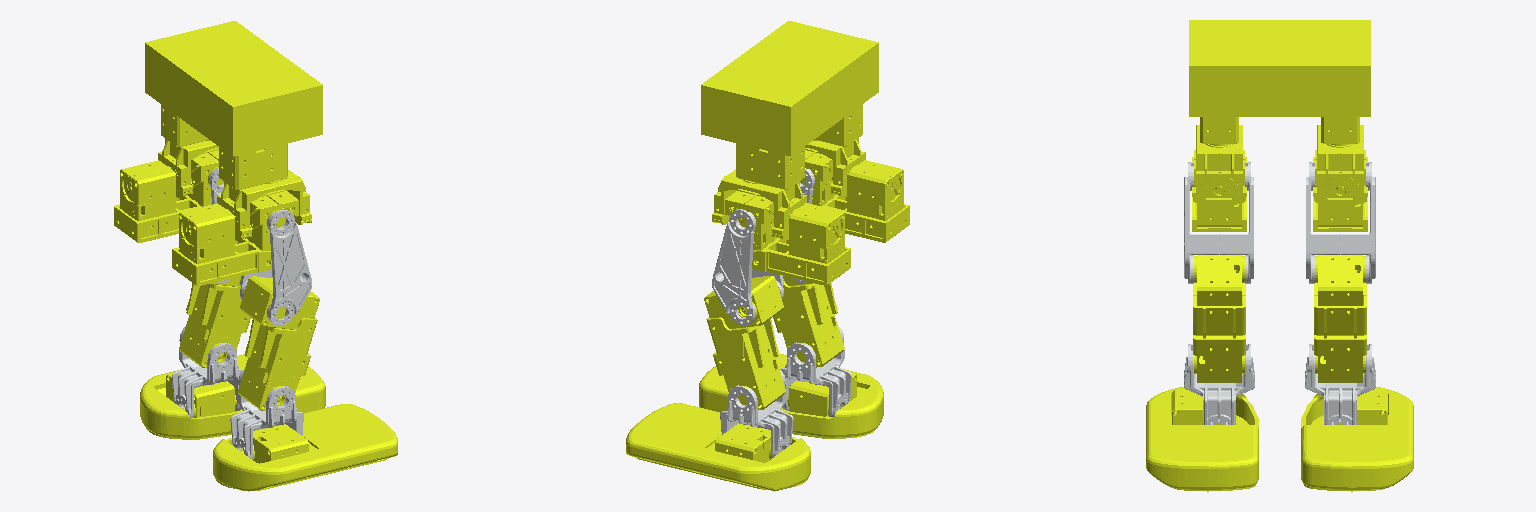
URDF robot description (exhx5_w_b_4):
<?xml version="1.0" encoding="utf-8"?>
<!-- This URDF was automatically created by SolidWorks to URDF Exporter! Originally created by [author] ([email redacted]) 
     Commit Version: 1.5.0-0-g9aa0fdb  Build Version: 1.5.7004.21443
     For more information, please see http://wiki.ros.org/sw_urdf_exporter -->
<robot
  name="exhx5_w_b_4">
  <link
    name="body_link">
    <inertial>
      <origin
        xyz="-0.0042379 -3.8815E-05 0.082564"
        rpy="0 0 0" />
      <mass
        value="2.0289" />
      <inertia
        ixx="0.003028"
        ixy="-1.1548E-13"
        ixz="1.3914E-06"
        iyy="0.0012834"
        iyz="6.0069E-16"
        izz="0.0037416" />
    </inertial>
    <visual>
      <origin
        xyz="0 0 0"
        rpy="0 0 0" />
      <geometry>
        <mesh
          filename="package://exhx5_w_b_4/meshes/body_link.STL" />
      </geometry>
      <material
        name="">
        <color
          rgba="0.9451 1 0.18431 1" />
      </material>
    </visual>
    <collision>
      <origin
        xyz="0 0 0"
        rpy="0 0 0" />
      <geometry>
        <mesh
          filename="package://exhx5_w_b_4/meshes/body_link.STL" />
      </geometry>
    </collision>
  </link>

  <link
    name="r_hip_yaw_link">
    <inertial>
      <origin
        xyz="-8.7512E-08 -0.0043916 -0.011937"
        rpy="0 0 0" />
      <mass
        value="0.060374" />
      <inertia
        ixx="2.2334E-05"
        ixy="7.1418E-11"
        ixz="-2.5162E-11"
        iyy="1.1654E-05"
        iyz="-9.1442E-09"
        izz="2.4883E-05" />
    </inertial>
    <visual>
      <origin
        xyz="0 0 0"
        rpy="0 0 0" />
      <geometry>
        <mesh
          filename="package://exhx5_w_b_4/meshes/r_hip_yaw_link.STL" />
      </geometry>
      <material
        name="">
        <color
          rgba="0.9451 1 0.18431 1" />
      </material>
    </visual>
    <collision>
      <origin
        xyz="0 0 0"
        rpy="0 0 0" />
      <geometry>
        <mesh
          filename="package://exhx5_w_b_4/meshes/r_hip_yaw_link.STL" />
      </geometry>
    </collision>
  </link>
  <joint
    name="r_hip_yaw"
    type="revolute">
    <origin
      xyz="0 -0.045 0"
      rpy="-3.1416 0 1.5708" />
    <parent
      link="body_link" />
    <child
      link="r_hip_yaw_link" />
    <axis
      xyz="0 0 1" />
    <limit
      lower="-3.14"
      upper="3.14"
      effort="0"
      velocity="0" />
    <safety_controller
      k_velocity="0" />
  </joint>
  <link
    name="r_hip_roll_link">
    <inertial>
      <origin
        xyz="0.013831 0.00033457 0.025453"
        rpy="0 0 0" />
      <mass
        value="0.2969" />
      <inertia
        ixx="7.8136E-05"
        ixy="7.265E-07"
        ixz="-6.9809E-08"
        iyy="9.2183E-05"
        iyz="-5.6564E-11"
        izz="7.1034E-05" />
    </inertial>
    <visual>
      <origin
        xyz="0 0 0"
        rpy="0 0 0" />
      <geometry>
        <mesh
          filename="package://exhx5_w_b_4/meshes/r_hip_roll_link.STL" />
      </geometry>
      <material
        name="">
        <color
          rgba="0.9451 1 0.18431 1" />
      </material>
    </visual>
    <collision>
      <origin
        xyz="0 0 0"
        rpy="0 0 0" />
      <geometry>
        <mesh
          filename="package://exhx5_w_b_4/meshes/r_hip_roll_link.STL" />
      </geometry>
    </collision>
  </link>
  <joint
    name="r_hip_roll"
    type="revolute">
    <origin
      xyz="0 0 0"
      rpy="1.5708 -1.5708 0" />
    <parent
      link="r_hip_yaw_link" />
    <child
      link="r_hip_roll_link" />
    <axis
      xyz="0 0 1" />
    <limit
      lower="-3.14"
      upper="3.14"
      effort="0"
      velocity="0" />
    <safety_controller
      k_velocity="0" />
  </joint>
  <link
    name="r_hip_pitch_link">
    <inertial>
      <origin
        xyz="0.041225 0.007321 4.861E-08"
        rpy="0 0 0" />
      <mass
        value="0.051592" />
      <inertia
        ixx="2.7959E-05"
        ixy="-2.0752E-06"
        ixz="7.3863E-11"
        iyy="4.8156E-05"
        iyz="3.1562E-11"
        izz="2.9604E-05" />
    </inertial>
    <visual>
      <origin
        xyz="0 0 0"
        rpy="0 0 0" />
      <geometry>
        <mesh
          filename="package://exhx5_w_b_4/meshes/r_hip_pitch_link.STL" />
      </geometry>
      <material
        name="">
        <color
          rgba="0.89804 0.91765 0.92941 1" />
      </material>
    </visual>
    <collision>
      <origin
        xyz="0 0 0"
        rpy="0 0 0" />
      <geometry>
        <mesh
          filename="package://exhx5_w_b_4/meshes/r_hip_pitch_link.STL" />
      </geometry>
    </collision>
  </link>
  <joint
    name="r_hip_pitch"
    type="revolute">
    <origin
      xyz="0 0 0"
      rpy="-1.5708 0 0" />
    <parent
      link="r_hip_roll_link" />
    <child
      link="r_hip_pitch_link" />
    <axis
      xyz="0 0 1" />
    <limit
      lower="-3.14"
      upper="3.14"
      effort="0"
      velocity="0" />
    <safety_controller
      k_velocity="0" />
  </joint>
  <link
    name="r_knee_link">
    <inertial>
      <origin
        xyz="0.033756 0.0084189 7.0869E-09"
        rpy="0 0 0" />
      <mass
        value="0.28878" />
      <inertia
        ixx="6.6724E-05"
        ixy="-7.5004E-07"
        ixz="8.4578E-07"
        iyy="6.5699E-05"
        iyz="4.1085E-07"
        izz="7.0381E-05" />
    </inertial>
    <visual>
      <origin
        xyz="0 0 0"
        rpy="0 0 0" />
      <geometry>
        <mesh
          filename="package://exhx5_w_b_4/meshes/r_knee_link.STL" />
      </geometry>
      <material
        name="">
        <color
          rgba="0.9451 1 0.18431 1" />
      </material>
    </visual>
    <collision>
      <origin
        xyz="0 0 0"
        rpy="0 0 0" />
      <geometry>
        <mesh
          filename="package://exhx5_w_b_4/meshes/r_knee_link.STL" />
      </geometry>
    </collision>
  </link>
  <joint
    name="r_knee"
    type="revolute">
    <origin
      xyz="0.075954 0 0"
      rpy="0 0 0" />
    <parent
      link="r_hip_pitch_link" />
    <child
      link="r_knee_link" />
    <axis
      xyz="0 0 1" />
    <limit
      lower="-3.14"
      upper="3.14"
      effort="0"
      velocity="0" />
    <safety_controller
      k_velocity="0" />
  </joint>
  <link
    name="r_ank_pitch_link">
    <inertial>
      <origin
        xyz="0.022786 -8.5366E-09 -7.1994E-06"
        rpy="0 0 0" />
      <mass
        value="0.044772" />
      <inertia
        ixx="1.777E-05"
        ixy="-5.6509E-13"
        ixz="-3.3702E-09"
        iyy="1.7119E-05"
        iyz="1.8799E-11"
        izz="1.8661E-05" />
    </inertial>
    <visual>
      <origin
        xyz="0 0 0"
        rpy="0 0 0" />
      <geometry>
        <mesh
          filename="package://exhx5_w_b_4/meshes/r_ank_pitch_link.STL" />
      </geometry>
      <material
        name="">
        <color
          rgba="0.89804 0.91765 0.92941 1" />
      </material>
    </visual>
    <collision>
      <origin
        xyz="0 0 0"
        rpy="0 0 0" />
      <geometry>
        <mesh
          filename="package://exhx5_w_b_4/meshes/r_ank_pitch_link.STL" />
      </geometry>
    </collision>
  </link>
  <joint
    name="r_ank_pitch"
    type="revolute">
    <origin
      xyz="0.074602 0 0"
      rpy="3.1416 0 0" />
    <parent
      link="r_knee_link" />
    <child
      link="r_ank_pitch_link" />
    <axis
      xyz="0 0 1" />
    <limit
      lower="-3.14"
      upper="3.14"
      effort="0"
      velocity="0" />
    <safety_controller
      k_velocity="0" />
  </joint>
  <link
    name="r_ank_roll_link">
    <inertial>
      <origin
        xyz="0.0028428 -0.011717 0.011396"
        rpy="0 0 0" />
      <mass
        value="0.18479" />
      <inertia
        ixx="0.00019443"
        ixy="-2.4883E-06"
        ixz="1.1391E-06"
        iyy="0.0001398"
        iyz="-4.5796E-06"
        izz="7.2546E-05" />
    </inertial>
    <visual>
      <origin
        xyz="0 0 0"
        rpy="0 0 0" />
      <geometry>
        <mesh
          filename="package://exhx5_w_b_4/meshes/r_ank_roll_link.STL" />
      </geometry>
      <material
        name="">
        <color
          rgba="0.9451 1 0.18431 1" />
      </material>
    </visual>
    <collision>
      <origin
        xyz="0 0 0"
        rpy="0 0 0" />
      <geometry>
        <mesh
          filename="package://exhx5_w_b_4/meshes/r_ank_roll_link.STL" />
      </geometry>
    </collision>
  </link>
  <joint
    name="r_ank_roll"
    type="revolute">
    <origin
      xyz="0.0465 0 0"
      rpy="1.5708 0 0" />
    <parent
      link="r_ank_pitch_link" />
    <child
      link="r_ank_roll_link" />
    <axis
      xyz="0 0 1" />
    <limit
      lower="-3.14"
      upper="3.14"
      effort="0"
      velocity="0" />
    <safety_controller
      k_velocity="0" />
  </joint>
  <link
    name="l_hip_yaw_link">
    <inertial>
      <origin
        xyz="-8.7512E-08 -0.0043916 -0.011937"
        rpy="0 0 0" />
      <mass
        value="0.060374" />
      <inertia
        ixx="2.2334E-05"
        ixy="7.1418E-11"
        ixz="-2.5162E-11"
        iyy="1.1654E-05"
        iyz="-9.1442E-09"
        izz="2.4883E-05" />
    </inertial>
    <visual>
      <origin
        xyz="0 0 0"
        rpy="0 0 0" />
      <geometry>
        <mesh
          filename="package://exhx5_w_b_4/meshes/l_hip_yaw_link.STL" />
      </geometry>
      <material
        name="">
        <color
          rgba="0.9451 1 0.18431 1" />
      </material>
    </visual>
    <collision>
      <origin
        xyz="0 0 0"
        rpy="0 0 0" />
      <geometry>
        <mesh
          filename="package://exhx5_w_b_4/meshes/l_hip_yaw_link.STL" />
      </geometry>
    </collision>
  </link>
  <joint
    name="l_hip_yaw"
    type="revolute">
    <origin
      xyz="0 0.045 0"
      rpy="3.1416 0 1.5708" />
    <parent
      link="body_link" />
    <child
      link="l_hip_yaw_link" />
    <axis
      xyz="0 0 1" />
    <limit
      lower="-3.14"
      upper="3.14"
      effort="0"
      velocity="0" />
    <safety_controller
      k_velocity="0" />
  </joint>
  <link
    name="l_hip_roll_link">
    <inertial>
      <origin
        xyz="0.013831 0.00033457 0.025453"
        rpy="0 0 0" />
      <mass
        value="0.2969" />
      <inertia
        ixx="7.8136E-05"
        ixy="7.265E-07"
        ixz="-6.9809E-08"
        iyy="9.2183E-05"
        iyz="-5.6564E-11"
        izz="7.1034E-05" />
    </inertial>
    <visual>
      <origin
        xyz="0 0 0"
        rpy="0 0 0" />
      <geometry>
        <mesh
          filename="package://exhx5_w_b_4/meshes/l_hip_roll_link.STL" />
      </geometry>
      <material
        name="">
        <color
          rgba="0.9451 1 0.18431 1" />
      </material>
    </visual>
    <collision>
      <origin
        xyz="0 0 0"
        rpy="0 0 0" />
      <geometry>
        <mesh
          filename="package://exhx5_w_b_4/meshes/l_hip_roll_link.STL" />
      </geometry>
    </collision>
  </link>
  <joint
    name="l_hip_roll"
    type="revolute">
    <origin
      xyz="0 0 0"
      rpy="1.5708 -1.5708 0" />
    <parent
      link="l_hip_yaw_link" />
    <child
      link="l_hip_roll_link" />
    <axis
      xyz="0 0 1" />
    <limit
      lower="-3.14"
      upper="3.14"
      effort="0"
      velocity="0" />
    <safety_controller
      k_velocity="0" />
  </joint>
  <link
    name="l_hip_pitch_link">
    <inertial>
      <origin
        xyz="0.041225 -0.007321 -4.861E-08"
        rpy="0 0 0" />
      <mass
        value="0.051592" />
      <inertia
        ixx="2.7959E-05"
        ixy="2.0752E-06"
        ixz="-7.3863E-11"
        iyy="4.8156E-05"
        iyz="3.1562E-11"
        izz="2.9604E-05" />
    </inertial>
    <visual>
      <origin
        xyz="0 0 0"
        rpy="0 0 0" />
      <geometry>
        <mesh
          filename="package://exhx5_w_b_4/meshes/l_hip_pitch_link.STL" />
      </geometry>
      <material
        name="">
        <color
          rgba="0.89804 0.91765 0.92941 1" />
      </material>
    </visual>
    <collision>
      <origin
        xyz="0 0 0"
        rpy="0 0 0" />
      <geometry>
        <mesh
          filename="package://exhx5_w_b_4/meshes/l_hip_pitch_link.STL" />
      </geometry>
    </collision>
  </link>
  <joint
    name="l_hip_pitch"
    type="revolute">
    <origin
      xyz="0 0 0"
      rpy="1.5708 0 0" />
    <parent
      link="l_hip_roll_link" />
    <child
      link="l_hip_pitch_link" />
    <axis
      xyz="0 0 1" />
    <limit
      lower="-3.14"
      upper="3.14"
      effort="0"
      velocity="0" />
    <safety_controller
      k_velocity="0" />
  </joint>
  <link
    name="l_knee_link">
    <inertial>
      <origin
        xyz="0.033756 -0.0084189 -6.579E-09"
        rpy="0 0 0" />
      <mass
        value="0.28878" />
      <inertia
        ixx="6.6724E-05"
        ixy="7.5004E-07"
        ixz="-8.4578E-07"
        iyy="6.5699E-05"
        iyz="4.1085E-07"
        izz="7.0381E-05" />
    </inertial>
    <visual>
      <origin
        xyz="0 0 0"
        rpy="0 0 0" />
      <geometry>
        <mesh
          filename="package://exhx5_w_b_4/meshes/l_knee_link.STL" />
      </geometry>
      <material
        name="">
        <color
          rgba="0.9451 1 0.18431 1" />
      </material>
    </visual>
    <collision>
      <origin
        xyz="0 0 0"
        rpy="0 0 0" />
      <geometry>
        <mesh
          filename="package://exhx5_w_b_4/meshes/l_knee_link.STL" />
      </geometry>
    </collision>
  </link>
  <joint
    name="l_knee"
    type="revolute">
    <origin
      xyz="0.075954 0 0"
      rpy="0 0 0" />
    <parent
      link="l_hip_pitch_link" />
    <child
      link="l_knee_link" />
    <axis
      xyz="0 0 1" />
    <limit
      lower="-3.14"
      upper="3.14"
      effort="0"
      velocity="0" />
    <safety_controller
      k_velocity="0" />
  </joint>
  <link
    name="l_ank_pitch_link">
    <inertial>
      <origin
        xyz="0.022786 -1.0983E-08 -7.1997E-06"
        rpy="0 0 0" />
      <mass
        value="0.044772" />
      <inertia
        ixx="1.777E-05"
        ixy="8.4062E-13"
        ixz="-3.3729E-09"
        iyy="1.7119E-05"
        iyz="1.773E-11"
        izz="1.8661E-05" />
    </inertial>
    <visual>
      <origin
        xyz="0 0 0"
        rpy="0 0 0" />
      <geometry>
        <mesh
          filename="package://exhx5_w_b_4/meshes/l_ank_pitch_link.STL" />
      </geometry>
      <material
        name="">
        <color
          rgba="0.89804 0.91765 0.92941 1" />
      </material>
    </visual>
    <collision>
      <origin
        xyz="0 0 0"
        rpy="0 0 0" />
      <geometry>
        <mesh
          filename="package://exhx5_w_b_4/meshes/l_ank_pitch_link.STL" />
      </geometry>
    </collision>
  </link>
  <joint
    name="l_ank_pitch"
    type="revolute">
    <origin
      xyz="0.074602 0 0"
      rpy="3.1416 0 0" />
    <parent
      link="l_knee_link" />
    <child
      link="l_ank_pitch_link" />
    <axis
      xyz="0 0 1" />
    <limit
      lower="-3.14"
      upper="3.14"
      effort="0"
      velocity="0" />
    <safety_controller
      k_velocity="0" />
  </joint>
  <link
    name="l_ank_roll_link">
    <inertial>
      <origin
        xyz="0.0028732 0.011682 0.011547"
        rpy="0 0 0" />
      <mass
        value="0.18479" />
      <inertia
        ixx="0.00019911"
        ixy="2.7424E-06"
        ixz="1.1897E-06"
        iyy="0.00014332"
        iyz="4.7044E-06"
        izz="7.3992E-05" />
    </inertial>
    <visual>
      <origin
        xyz="0 0 0"
        rpy="0 0 0" />
      <geometry>
        <mesh
          filename="package://exhx5_w_b_4/meshes/l_ank_roll_link.STL" />
      </geometry>
      <material
        name="">
        <color
          rgba="0.9451 1 0.18431 1" />
      </material>
    </visual>
    <collision>
      <origin
        xyz="0 0 0"
        rpy="0 0 0" />
      <geometry>
        <mesh
          filename="package://exhx5_w_b_4/meshes/l_ank_roll_link.STL" />
      </geometry>
    </collision>
  </link>
  <joint
    name="l_ank_roll"
    type="revolute">
    <origin
      xyz="0.0465 0 0"
      rpy="-1.5708 0 0" />
    <parent
      link="l_ank_pitch_link" />
    <child
      link="l_ank_roll_link" />
    <axis
      xyz="0 0 1" />
    <limit
      lower="-3.14"
      upper="3.14"
      effort="0"
      velocity="0" />
    <safety_controller
      k_velocity="0" />
  </joint>
</robot>

--- Render facts (derived) ---
The picture shows the robot from 3 angles, left to right: view 1: azimuth 30°, elevation 25°; view 2: azimuth 150°, elevation 25°; view 3: azimuth 270°, elevation 25°; orthographic projection.
Robot: exhx5_w_b_4 — 13 links, 12 joints (12 revolute); root link body_link; default pose: every joint at zero.
Visible links, largest first — view 1: body_link, r_ank_roll_link, r_hip_roll_link, r_knee_link, l_ank_roll_link, l_hip_roll_link, l_knee_link, r_hip_pitch_link, r_ank_pitch_link, l_ank_pitch_link, r_hip_yaw_link, l_hip_yaw_link; view 2: body_link, l_ank_roll_link, l_hip_roll_link, l_knee_link, r_hip_roll_link, r_ank_roll_link, r_knee_link, l_hip_pitch_link, l_ank_pitch_link, r_ank_pitch_link, l_hip_yaw_link, r_hip_yaw_link; view 3: body_link, r_ank_roll_link, l_ank_roll_link, r_knee_link, l_knee_link, r_hip_yaw_link, l_hip_yaw_link, r_hip_pitch_link, l_hip_pitch_link, l_ank_pitch_link, r_ank_pitch_link, r_hip_roll_link (+1 smaller).
Boxes of the visible links, left/top/right/bottom form: body_link: left=145, top=21, right=322, bottom=189; r_ank_roll_link: left=213, top=404, right=397, bottom=491; r_hip_roll_link: left=172, top=189, right=298, bottom=286; r_knee_link: left=238, top=276, right=319, bottom=410; l_ank_roll_link: left=140, top=354, right=325, bottom=439; l_hip_roll_link: left=114, top=148, right=223, bottom=242; l_knee_link: left=179, top=276, right=250, bottom=367; r_hip_pitch_link: left=240, top=209, right=311, bottom=325; r_ank_pitch_link: left=230, top=369, right=303, bottom=459; l_ank_pitch_link: left=172, top=326, right=243, bottom=417; r_hip_yaw_link: left=217, top=170, right=311, bottom=240; l_hip_yaw_link: left=158, top=138, right=218, bottom=197; body_link: left=701, top=21, right=878, bottom=189; l_ank_roll_link: left=626, top=403, right=810, bottom=491; l_hip_roll_link: left=725, top=189, right=850, bottom=285; l_knee_link: left=704, top=276, right=785, bottom=409; r_hip_roll_link: left=800, top=148, right=909, bottom=242; r_ank_roll_link: left=699, top=354, right=883, bottom=438; r_knee_link: left=773, top=276, right=844, bottom=367; l_hip_pitch_link: left=712, top=209, right=783, bottom=325; l_ank_pitch_link: left=720, top=368, right=793, bottom=458; r_ank_pitch_link: left=780, top=326, right=851, bottom=416; l_hip_yaw_link: left=712, top=169, right=806, bottom=239; r_hip_yaw_link: left=805, top=138, right=865, bottom=196; body_link: left=1189, top=20, right=1370, bottom=145; r_ank_roll_link: left=1146, top=387, right=1258, bottom=491; l_ank_roll_link: left=1301, top=387, right=1413, bottom=491; r_knee_link: left=1193, top=255, right=1245, bottom=382; l_knee_link: left=1314, top=255, right=1366, bottom=382; r_hip_yaw_link: left=1192, top=125, right=1246, bottom=203; l_hip_yaw_link: left=1313, top=125, right=1367, bottom=203; r_hip_pitch_link: left=1184, top=162, right=1253, bottom=283; l_hip_pitch_link: left=1306, top=162, right=1375, bottom=283; l_ank_pitch_link: left=1305, top=344, right=1375, bottom=424; r_ank_pitch_link: left=1184, top=344, right=1254, bottom=424; r_hip_roll_link: left=1192, top=150, right=1246, bottom=231.
Size in the robot's own frame: 0.1689 by 0.1992 by 0.3223 metres.
13 mesh visuals loaded from 13 distinct referenced files (13 binary STL).